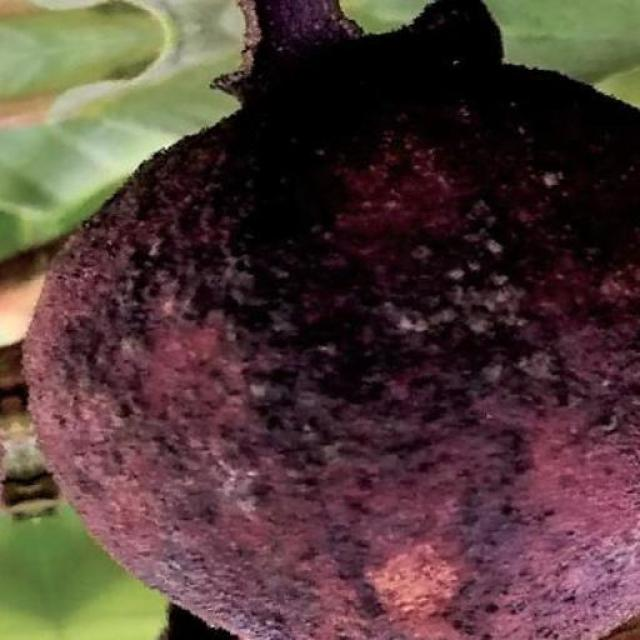Phytopthora: (25, 0, 640, 640)
